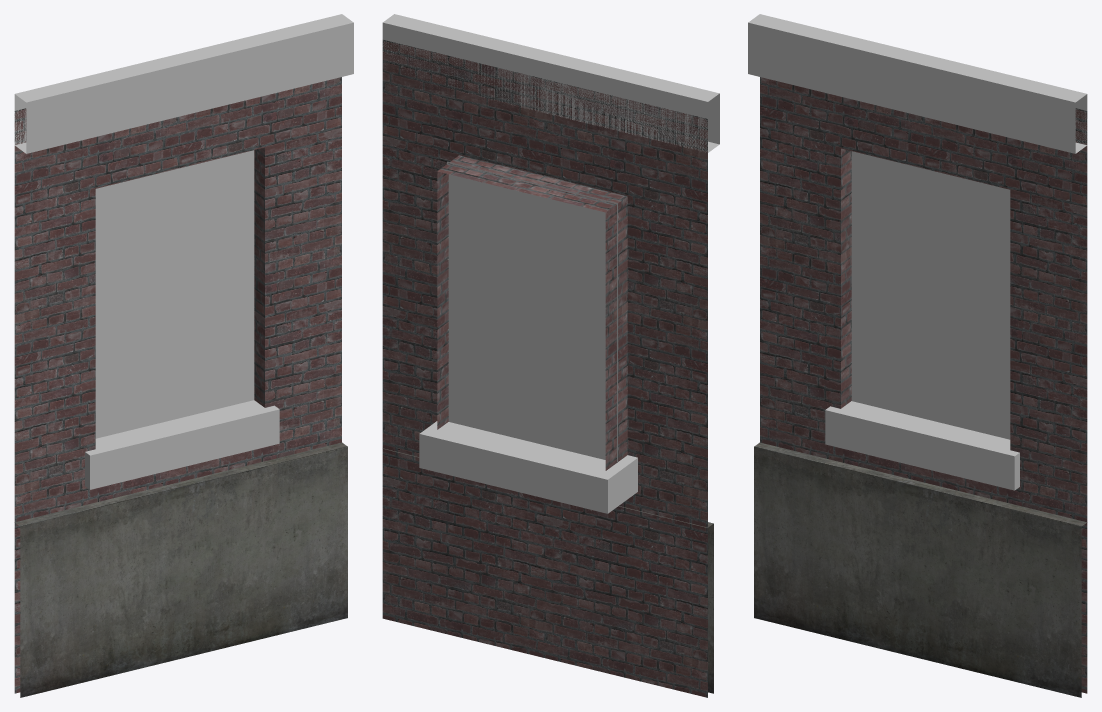
Rendered from Wall_B_Brick_Window_F_2x.FBX.
3 views of the same model, side by side, from view 1: azimuth 30°, elevation 25°; view 2: azimuth 150°, elevation 25°; view 3: azimuth 330°, elevation 25° (orthographic).
Visible parts, largest first — view 1: Wall_B_Brick_Window_F_2x; view 2: Wall_B_Brick_Window_F_2x; view 3: Wall_B_Brick_Window_F_2x.
Boxes of the visible parts, x1,y1,x2,y2 form: Wall_B_Brick_Window_F_2x: [14, 14, 353, 697]; Wall_B_Brick_Window_F_2x: [382, 14, 719, 697]; Wall_B_Brick_Window_F_2x: [748, 14, 1087, 697].
Bounding box in the file's own units: 200 × 350 × 44.71.
